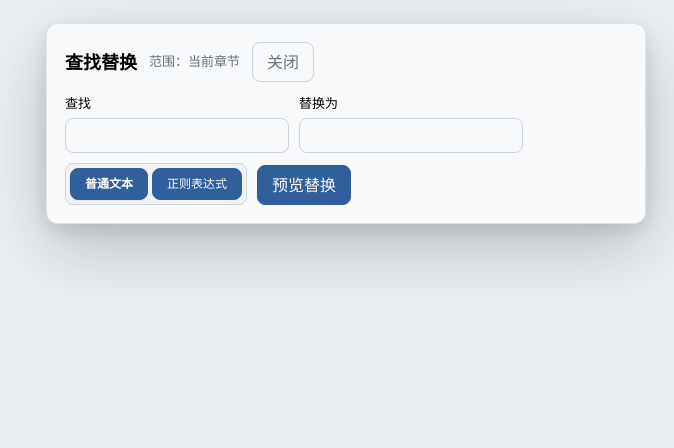
Test case: ReplacePanel 逐命中排除与替换计划 › 捕获组替换在计划视图中展示 after
Step 1. Type "第1章" into the field with test id "replace-find" → (177, 135), box [65,118,289,153]
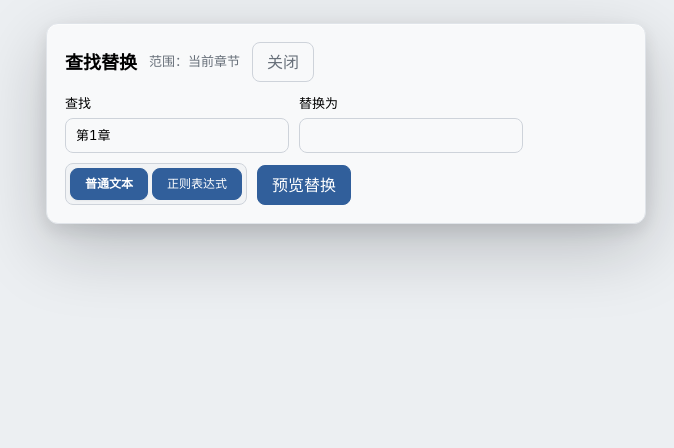
Step 2. Click the button with test id "replace-preview" → (304, 185), box [257,165,351,205]
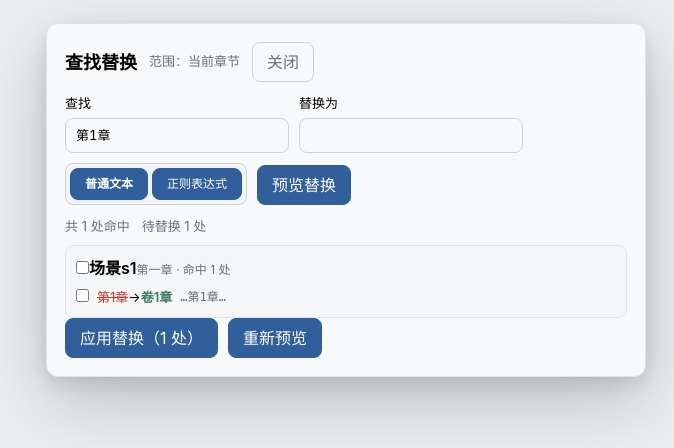
Check: the element with test id "replace-plan-view" shows "卷1章", box [141,288,172,304]
